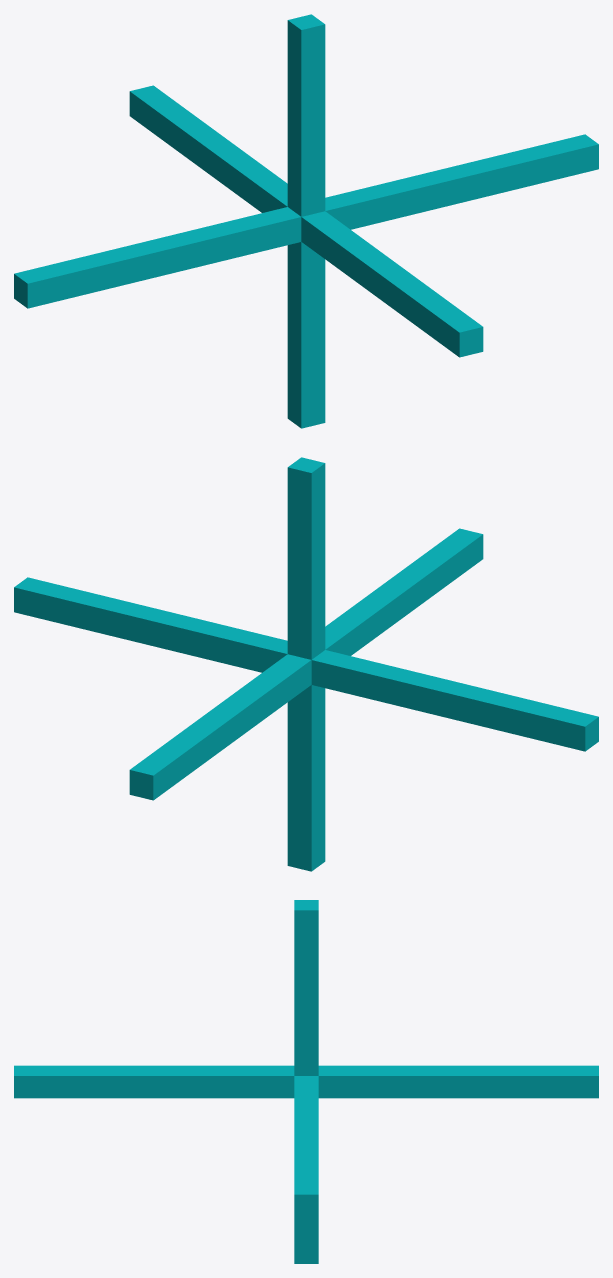
Rendered from rotatingObstacle.fbx.
The picture shows the model from 3 angles, top to bottom: view 1: azimuth 30°, elevation 25°; view 2: azimuth 150°, elevation 25°; view 3: azimuth 270°, elevation 25°; orthographic projection. The views are drawn at different scales.
Visible parts, largest first — view 1: Cube2, Cube3, Cube; view 2: Cube2, Cube3, Cube; view 3: Cube3, Cube, Cube2.
Boxes of the visible parts, <box> form: Cube2: <box>14,134,598,308</box>; Cube3: <box>129,85,483,357</box>; Cube: <box>287,14,325,428</box>; Cube2: <box>14,577,598,751</box>; Cube3: <box>129,528,483,800</box>; Cube: <box>287,457,325,871</box>; Cube3: <box>14,1065,598,1098</box>; Cube: <box>294,900,318,1263</box>; Cube2: <box>294,1076,318,1216</box>.
Size of the model in its own units: 1200 by 1200 by 800.
